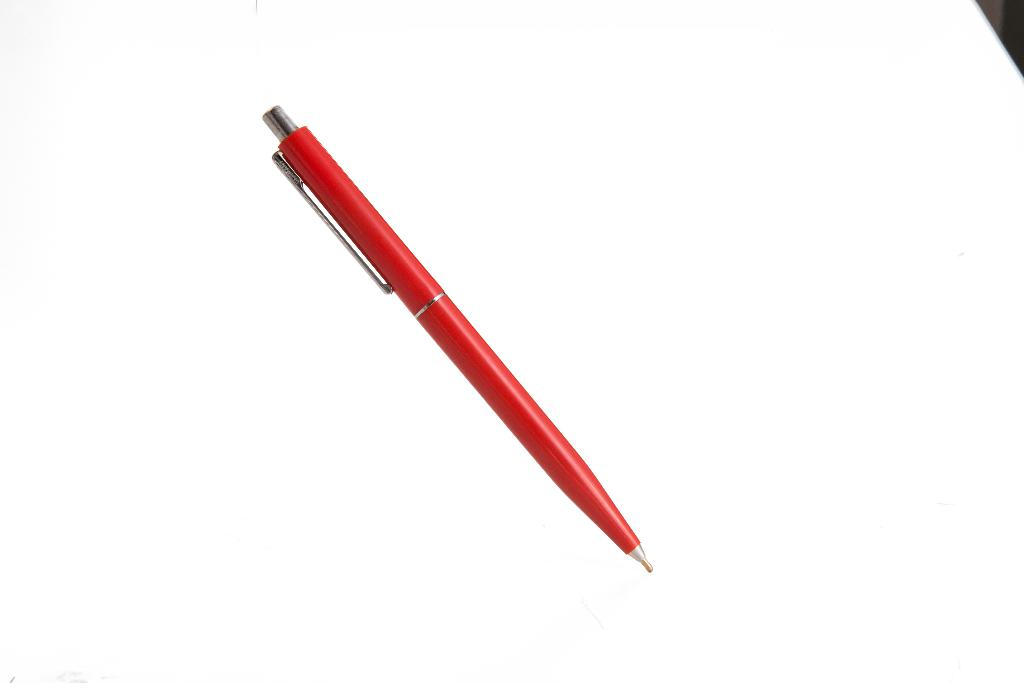Pen: (257, 105, 659, 577)
